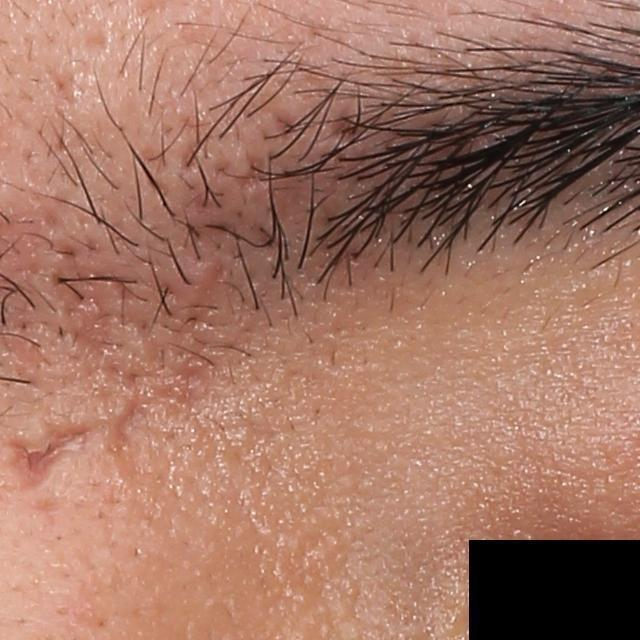atrophic_scar: (112, 389, 145, 451), (84, 34, 113, 53)
